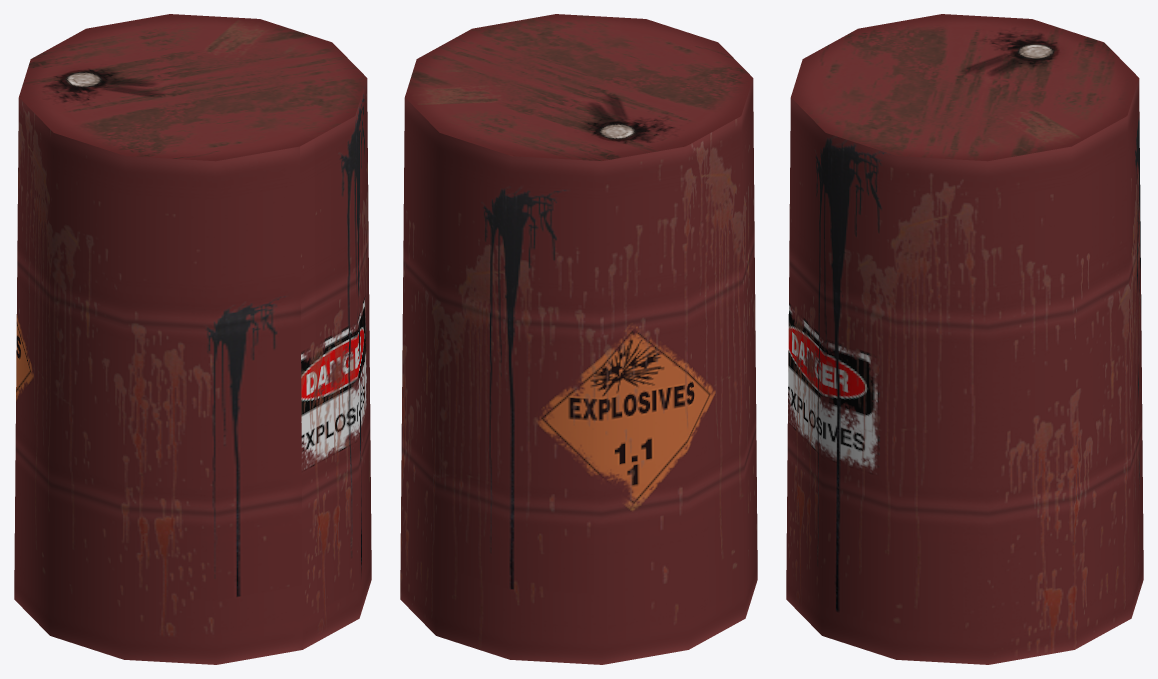
Rendered from Barrel2_LOD1.fbx.
3 renders of one model, left to right at view 1: azimuth 30°, elevation 25°; view 2: azimuth 150°, elevation 25°; view 3: azimuth 270°, elevation 25°, orthographic.
Visible parts, largest first — view 1: polySurface6; view 2: polySurface6; view 3: polySurface6.
Part boxes in pixels (x1=…): polySurface6: x1=14, y1=14, x2=371, y2=664; polySurface6: x1=400, y1=14, x2=757, y2=664; polySurface6: x1=786, y1=14, x2=1143, y2=664.
Bounding box in the file's own units: 0.8796 × 1.36 × 0.8796.
